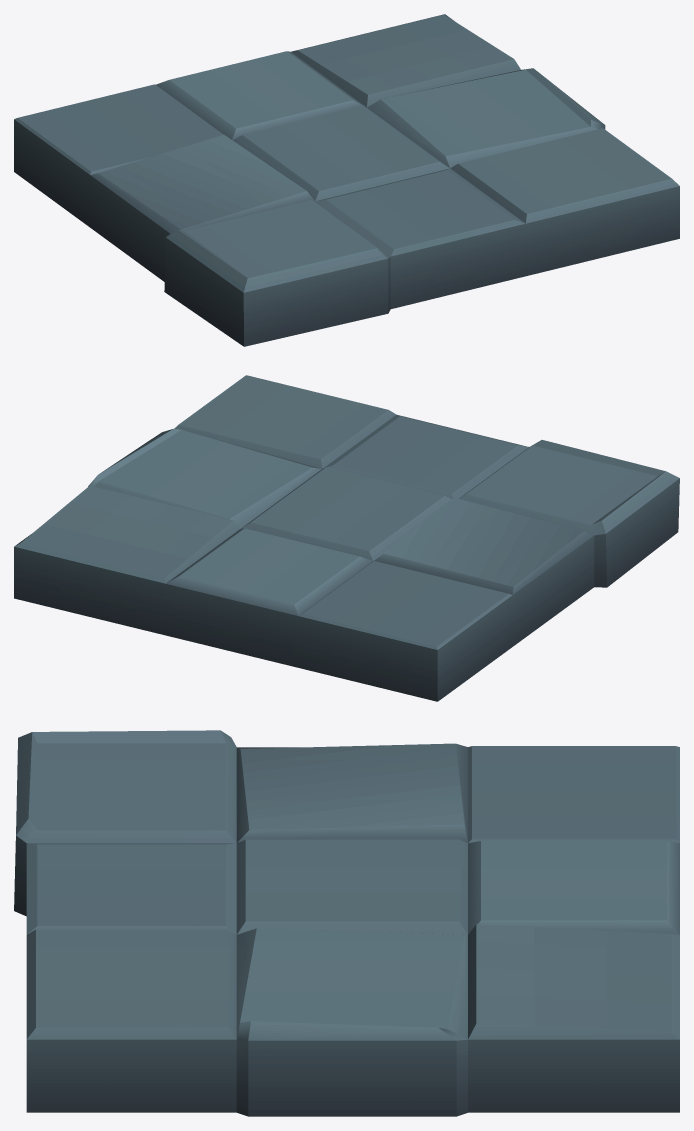
Rendered from Modular_Dungeon_Tile_Uniform_Small.fbx.
3 renders of one model, top to bottom at view 1: azimuth 30°, elevation 25°; view 2: azimuth 150°, elevation 25°; view 3: azimuth 270°, elevation 25°, orthographic. The views are drawn at different scales.
Parts seen in each view (by area): view 1: Tile_Uniform_Small; view 2: Tile_Uniform_Small; view 3: Tile_Uniform_Small.
Part boxes in pixels (bbox=[...]): Tile_Uniform_Small: bbox=[14, 14, 679, 346]; Tile_Uniform_Small: bbox=[14, 375, 679, 701]; Tile_Uniform_Small: bbox=[14, 730, 679, 1116].
Bounding box in the file's own units: 3.99 × 0.5447 × 3.7.
1 material, 1 textured.
